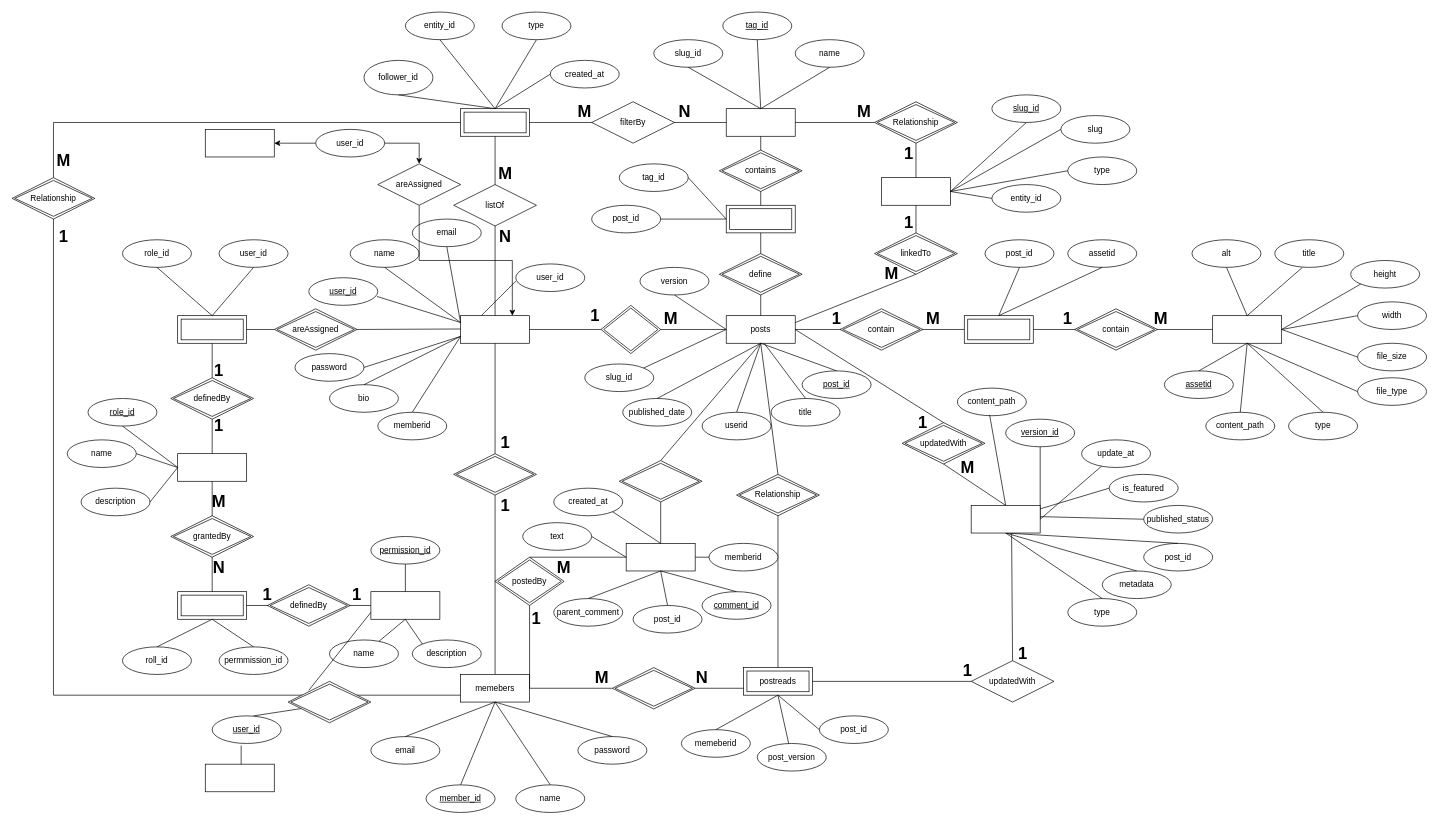
This 1439x825 diagram has some shape labels left out. Each missing label, with the centre of its shape:
account: point (239, 143)
arePartOF: point (494, 474)
assets: point (1247, 329)
canRead: point (653, 688)
comments: point (660, 557)
contaiin: point (660, 481)
contentversions: point (1005, 519)
create: point (630, 329)
follows: point (495, 122)
permissions: point (405, 605)
postassets: point (998, 329)
rolepermissions: point (212, 605)
roles: point (212, 467)
Sessions: point (239, 777)
slugs: point (915, 191)
tags: point (760, 122)
tags to posts: point (760, 219)
userroles: point (212, 329)
users: point (495, 329)
worksWith: point (329, 702)
